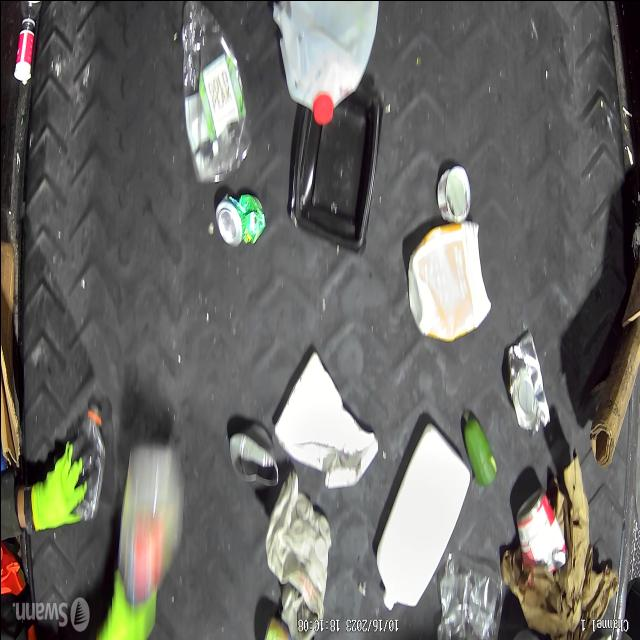can: (506, 329, 550, 432), (514, 488, 568, 570), (228, 421, 278, 488), (214, 192, 266, 246), (436, 165, 470, 221)
milk_jug: (374, 422, 469, 610), (274, 351, 378, 486), (271, 0, 378, 125)
non_white_jug: (406, 220, 490, 340)
plastic_bottle: (72, 402, 102, 518)
